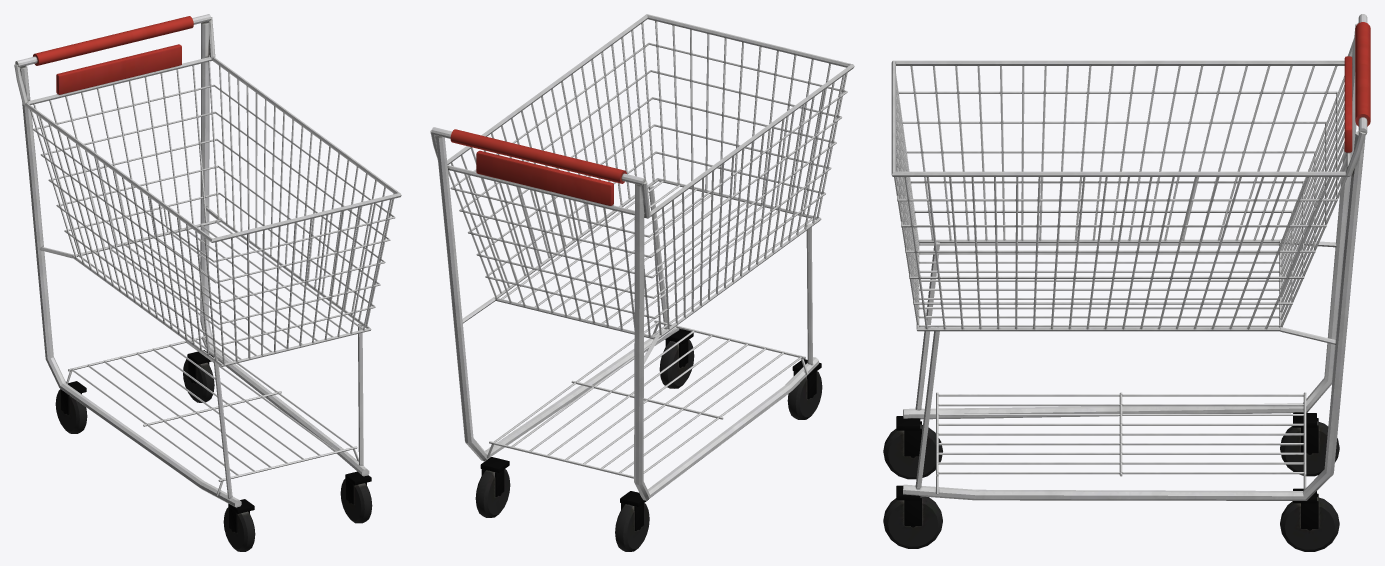
File: carrinho_compras.glb
3 views of the same model, side by side, from view 1: azimuth 30°, elevation 25°; view 2: azimuth 150°, elevation 25°; view 3: azimuth 270°, elevation 25° (orthographic). The views are drawn at different scales.
Parts seen in each view (by area): view 1: carrinho; view 2: carrinho; view 3: carrinho.
Boxes of the visible parts, box(x1,y1,x2,y2) form: carrinho: box(14, 14, 401, 551); carrinho: box(430, 14, 854, 551); carrinho: box(883, 14, 1370, 551).
Size of the model in its own units: 0.5734 by 1.01 by 1.01.
1 material, 1 textured.
